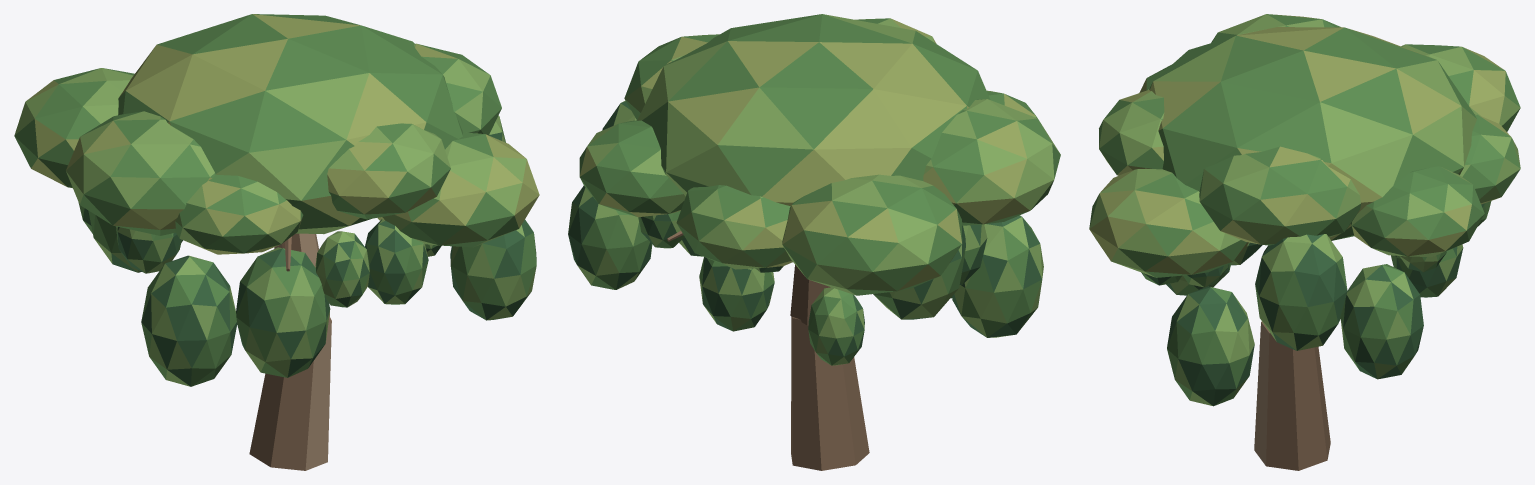
The model's file is tree_willow.glb.
3 renders of one model, left to right at view 1: azimuth 30°, elevation 25°; view 2: azimuth 150°, elevation 25°; view 3: azimuth 270°, elevation 25°, orthographic. The views are drawn at different scales.
Parts seen in each view (by area): view 1: tree_willow; view 2: tree_willow; view 3: tree_willow.
Part boxes in pixels (x1,y1,x2,y2): tree_willow: [14, 14, 539, 470]; tree_willow: [568, 14, 1060, 470]; tree_willow: [1089, 14, 1520, 470].
Size of the model in its own units: 4.92 by 4.52 by 4.35.
